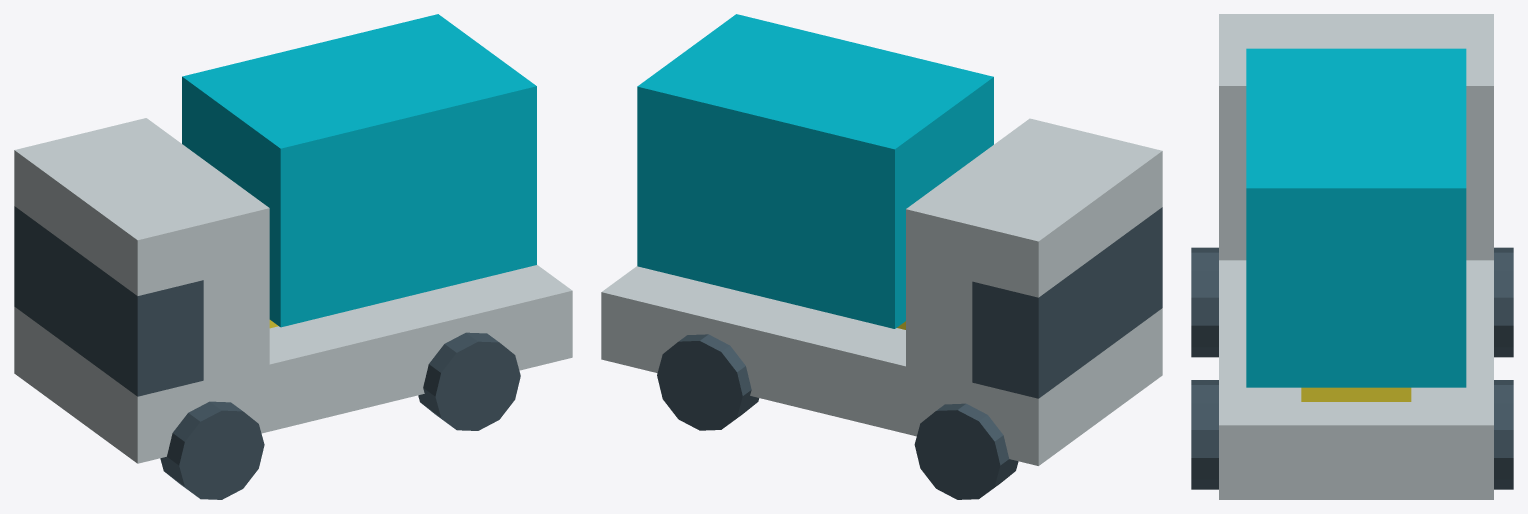
File: agv.glb
The picture shows the model from 3 angles, left to right: view 1: azimuth 30°, elevation 25°; view 2: azimuth 150°, elevation 25°; view 3: azimuth 270°, elevation 25°; orthographic projection. The views are drawn at different scales.
Visible parts, largest first — view 1: group1760482254, group309759291, group1720986182, group1922777031; view 2: group1760482254, group309759291, group914940321, group597209792; view 3: group309759291, group1760482254, group1720986182, group1922777031, group914940321, group597209792, group81506427.
Part boxes in pixels (x1,y1,x2,y2): group1760482254: (14, 118, 572, 463); group309759291: (182, 14, 536, 327); group1720986182: (160, 401, 264, 499); group1922777031: (418, 332, 520, 430); group1760482254: (601, 118, 1162, 465); group309759291: (637, 14, 993, 328); group914940321: (914, 403, 1018, 499); group597209792: (657, 334, 759, 430); group309759291: (1246, 48, 1466, 387); group1760482254: (1219, 14, 1493, 499); group1720986182: (1191, 247, 1218, 357); group1922777031: (1191, 380, 1218, 489); group914940321: (1494, 247, 1513, 357); group597209792: (1494, 380, 1513, 489); group81506427: (1301, 387, 1411, 401).
Size of the model in its own units: 0.2037 by 0.14 by 0.1171.
